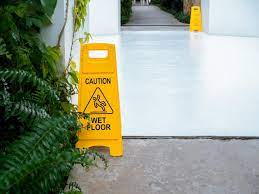wet caution sign: (64, 23, 134, 166), (184, 1, 209, 36)
